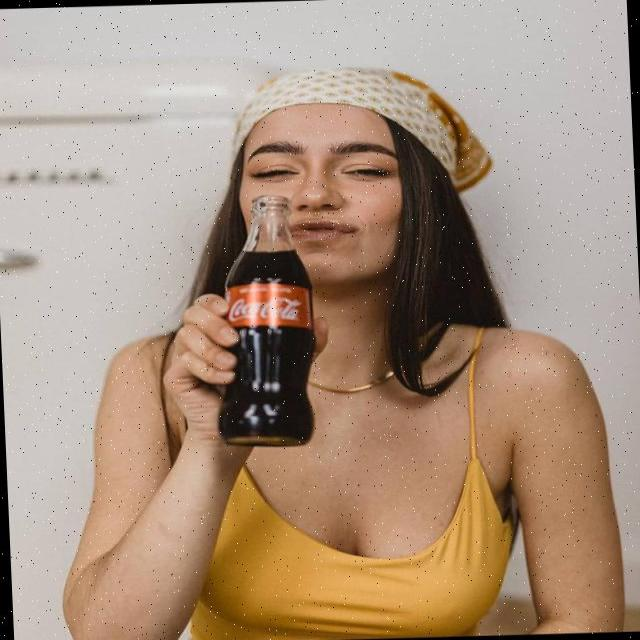coca-cola: (208, 192, 319, 450)
